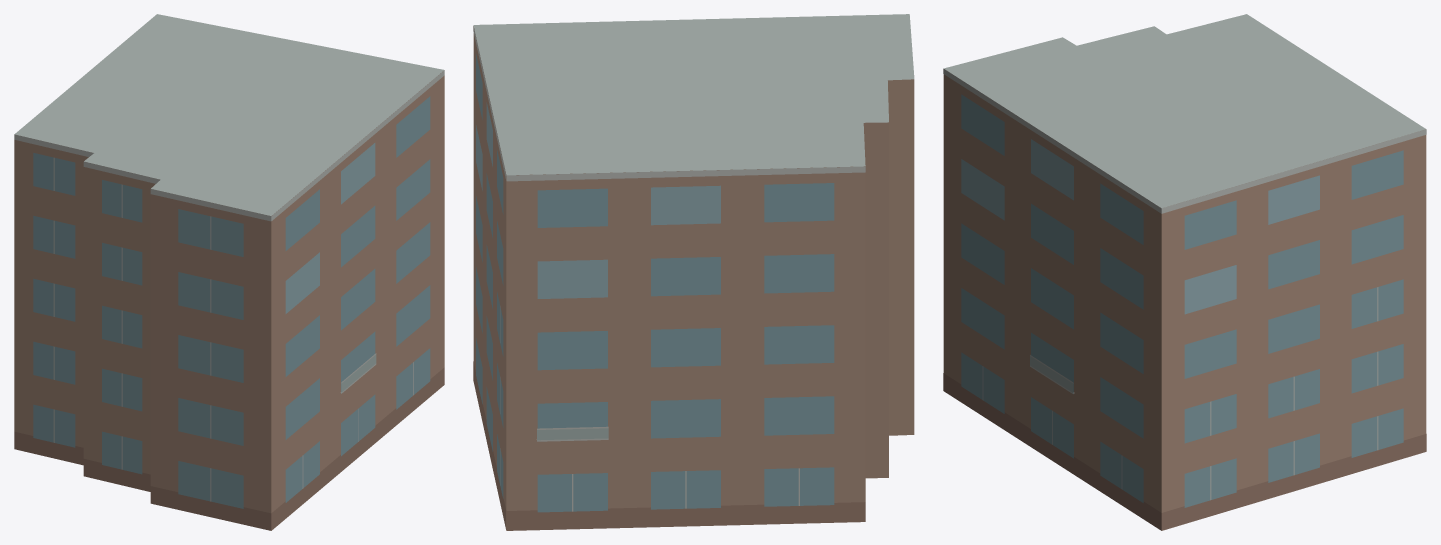
File: survey-upis-32778791.glb
The picture shows the model from 3 angles, left to right: view 1: azimuth 30°, elevation 25°; view 2: azimuth 150°, elevation 25°; view 3: azimuth 270°, elevation 25°; orthographic projection. The views are drawn at different scales.
Parts seen in each view (by area): view 1: survey-upis-32778791.tmp; view 2: survey-upis-32778791.tmp; view 3: survey-upis-32778791.tmp.
Boxes of the visible parts, <box> form: survey-upis-32778791.tmp: <box>14,14,444,530</box>; survey-upis-32778791.tmp: <box>473,14,914,530</box>; survey-upis-32778791.tmp: <box>943,14,1426,530</box>.
Bounding box in the file's own units: 18.49 × 14.3 × 19.41.
